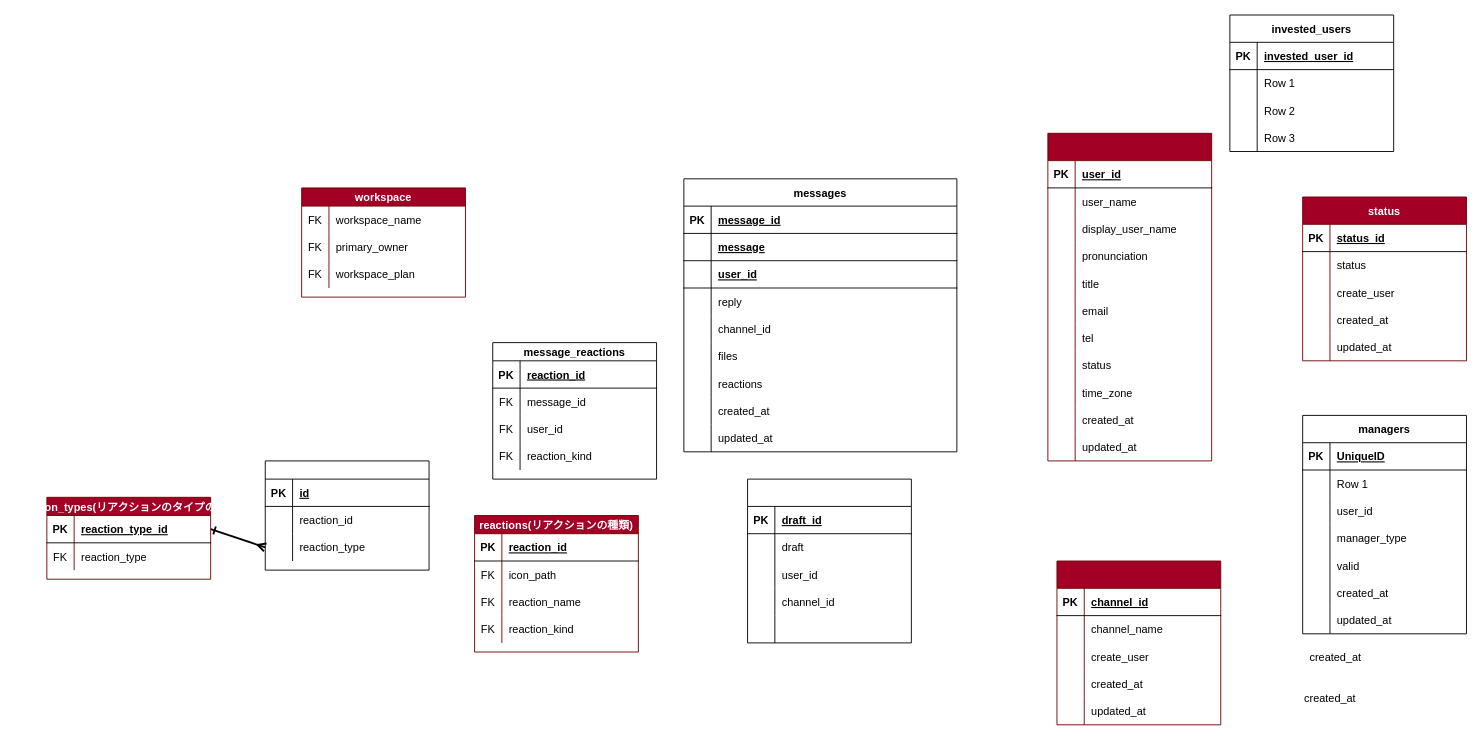
Some shapes in this 1481 by 740 pixel diagram are drawn without their labels. Each missing label, with the box of its shape:
channels: (1056, 560, 1221, 725)
drafts: (747, 478, 911, 643)
reaction_type_table: (264, 460, 429, 570)
users: (1047, 132, 1212, 461)
